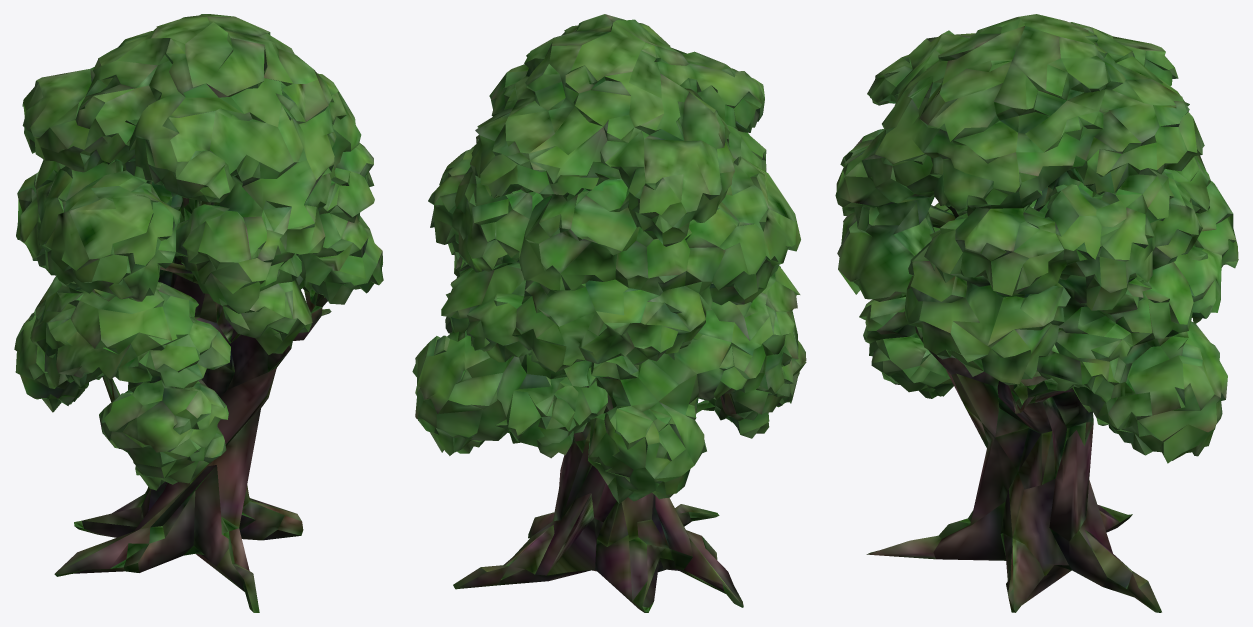
The model's file is Oak.lod1.glb.
3 views of the same model, side by side, from view 1: azimuth 30°, elevation 25°; view 2: azimuth 150°, elevation 25°; view 3: azimuth 270°, elevation 25° (orthographic). The views are drawn at different scales.
Size of the model in its own units: 3.75 by 6 by 3.97.
1 material, 1 textured.
